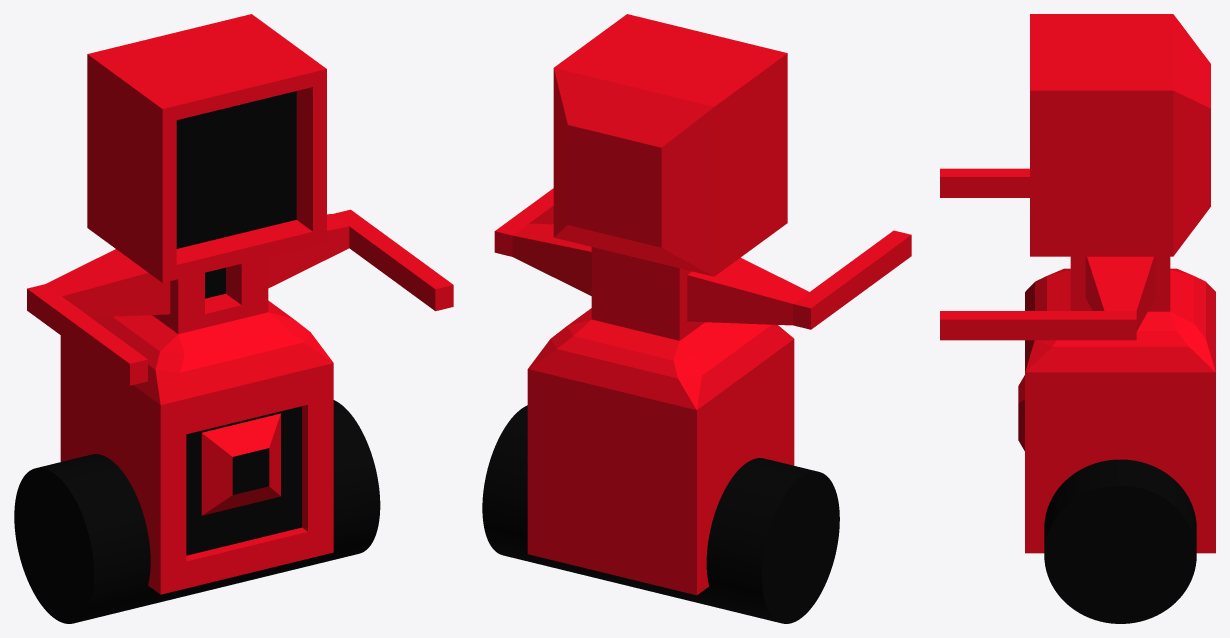
Rendered from boss.glb.
The picture shows the model from 3 angles, left to right: view 1: azimuth 30°, elevation 25°; view 2: azimuth 150°, elevation 25°; view 3: azimuth 270°, elevation 25°; orthographic projection. The views are drawn at different scales.
Visible parts, largest first — view 1: Cylinder.002; view 2: Cylinder.002; view 3: Cylinder.002.
Boxes of the visible parts, x1,y1,x2,y2 form: Cylinder.002: [14, 14, 453, 623]; Cylinder.002: [482, 14, 911, 623]; Cylinder.002: [940, 14, 1215, 623].
Bounding box in the file's own units: 3.57 × 5.57 × 2.76.
